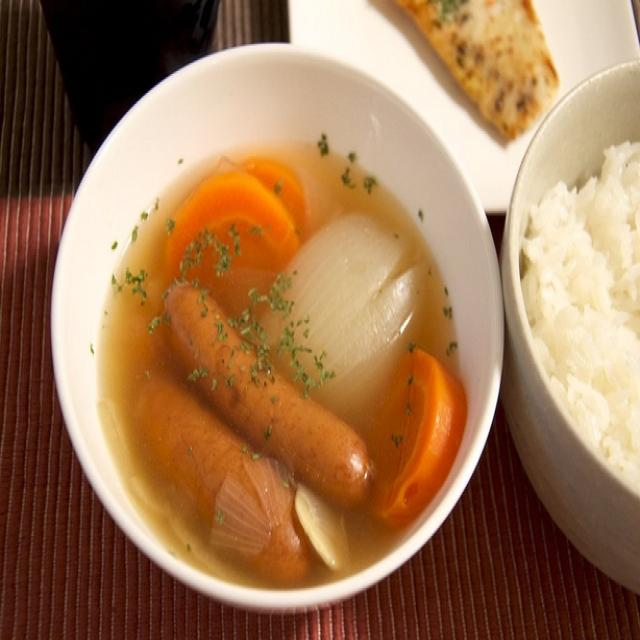汤锅炖物: (63, 63, 490, 602)
